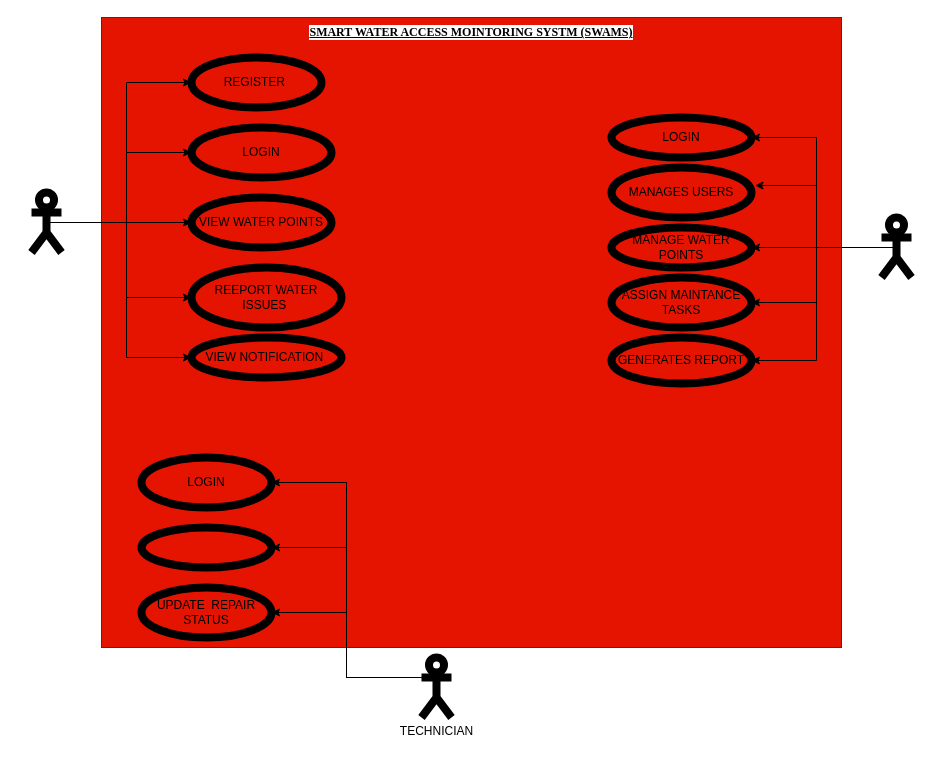
The diagram is 933 pixels wide and 771 high, and some of its shapes have lost their labels. The shapes that lost their labels are listed below. From the top down, each one's centre as x and y in pixels, then its label:
the point at 46,222: CITIZENS
the point at 896,247: ADMIN
the point at 206,547: VIEW ASSIGN TASKS
